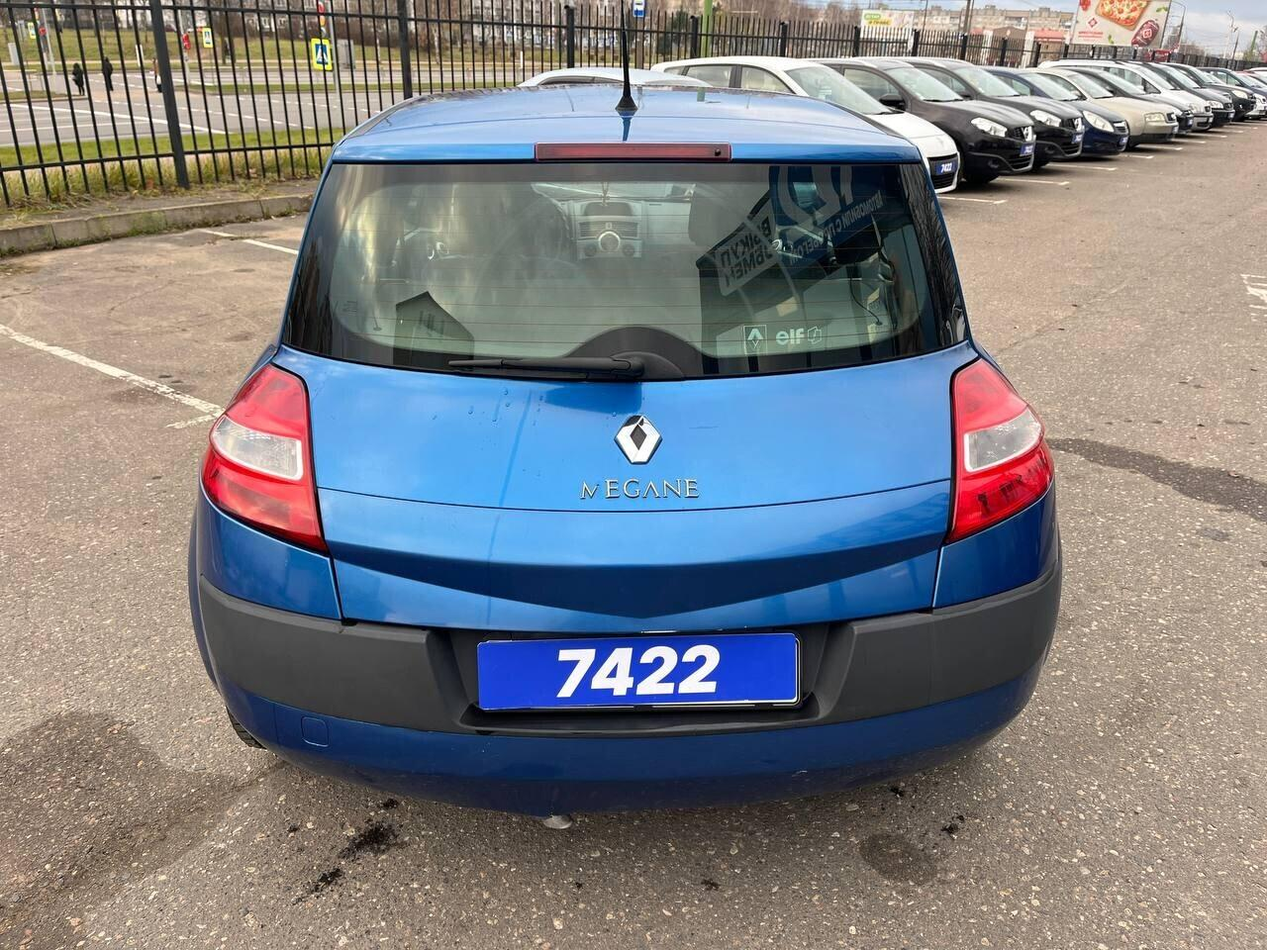Megane_2002-2006: (181, 77, 1064, 818)
